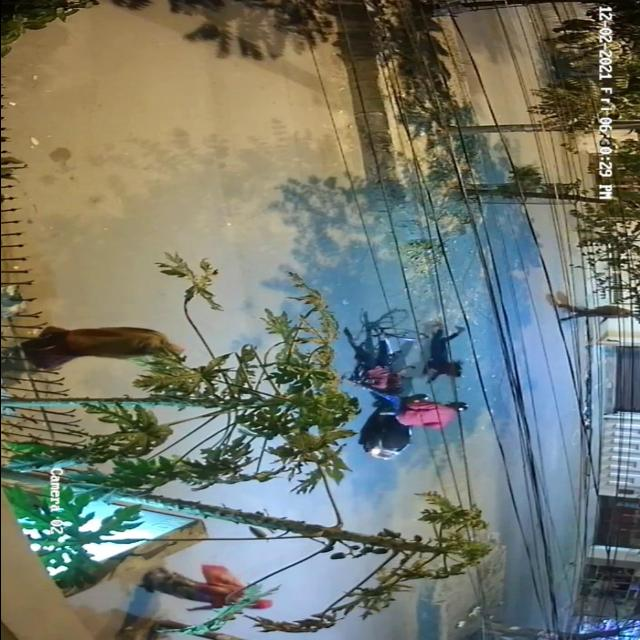accident: (340, 304, 477, 465)
